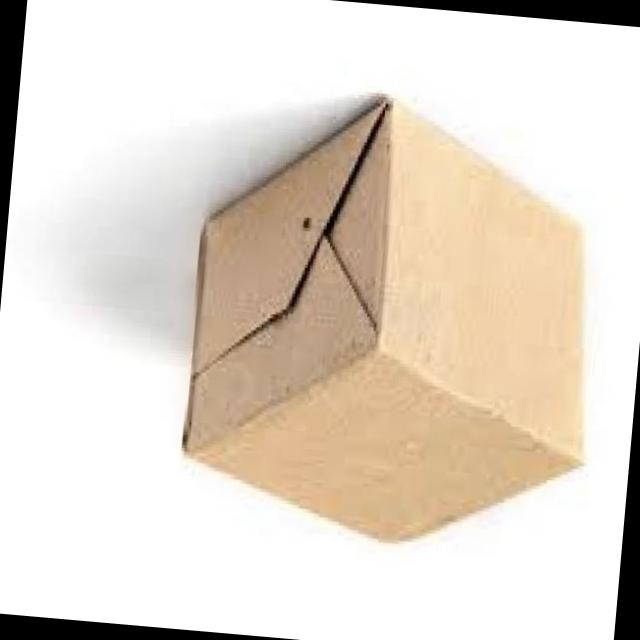cardboard paper: (185, 104, 583, 543)
